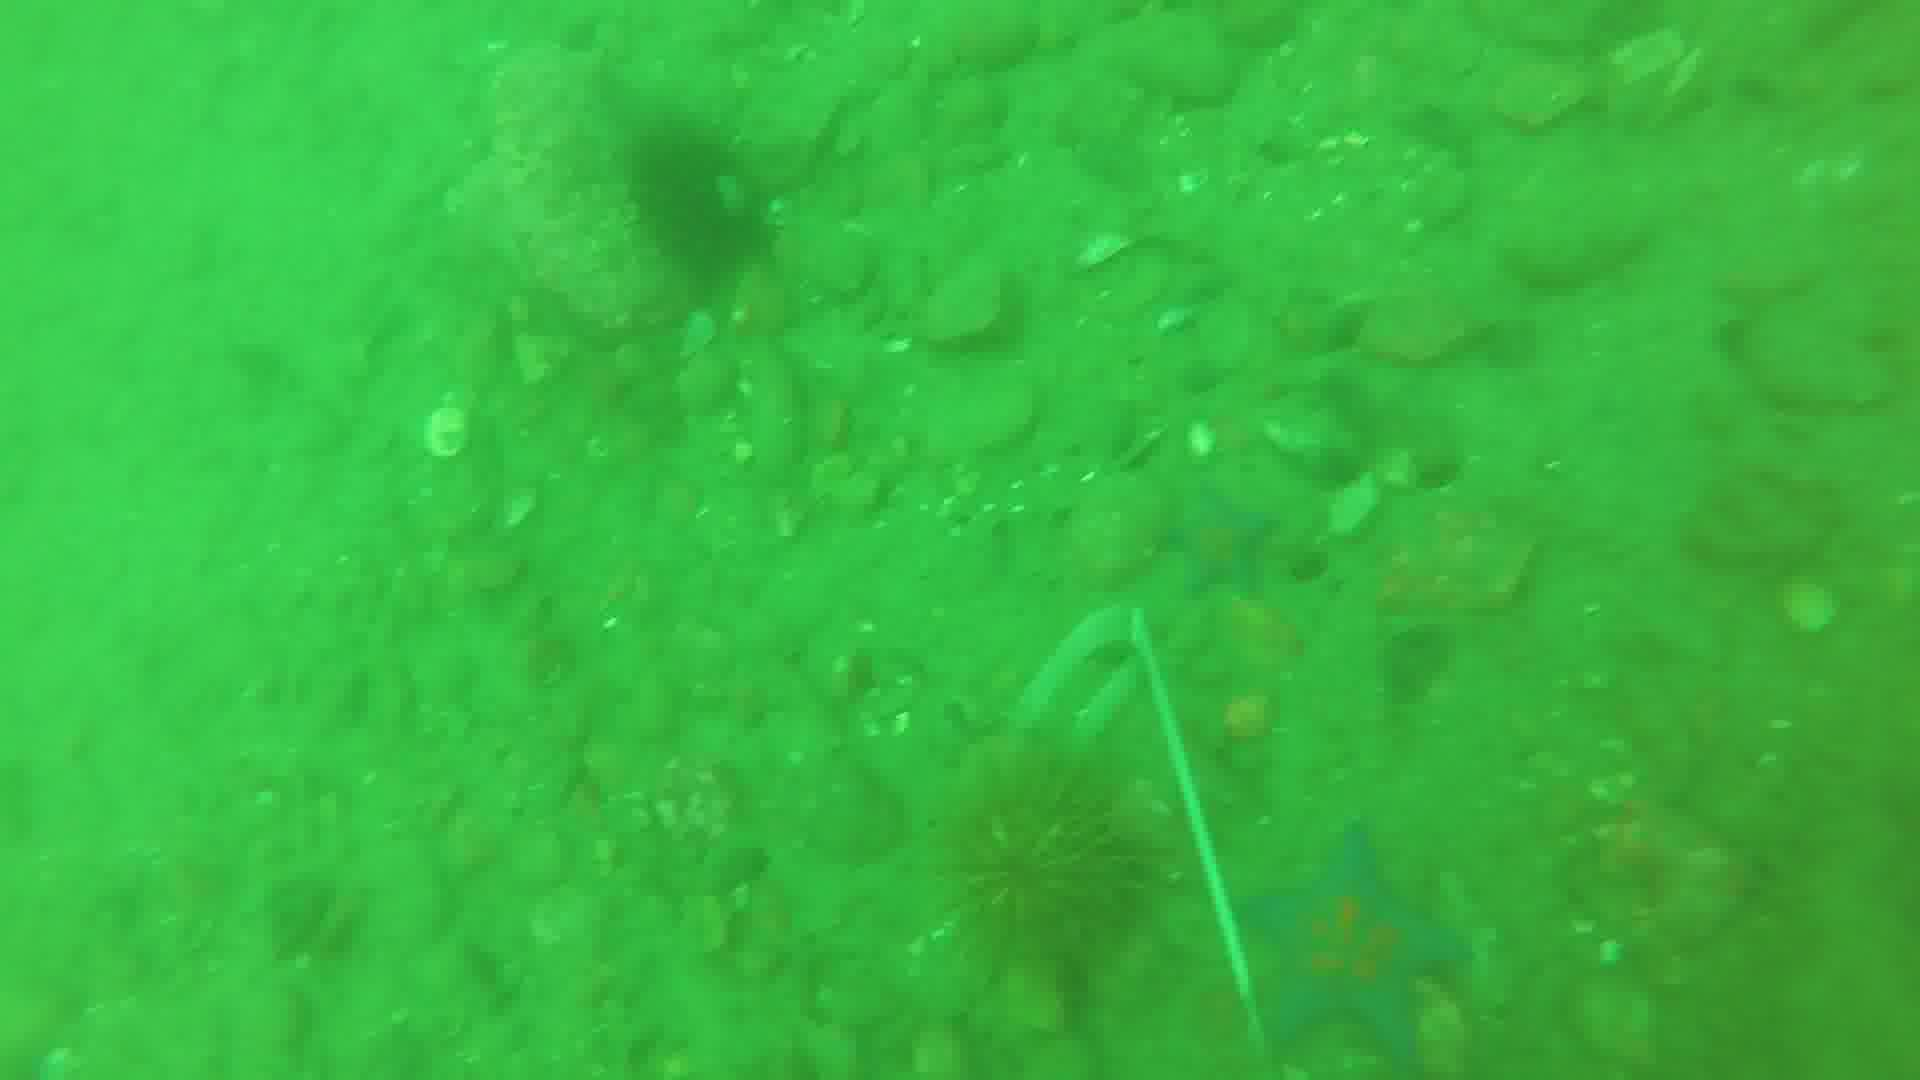echinus: (953, 750, 1153, 990), (629, 109, 771, 272)
scallop: (1611, 32, 1688, 90), (1778, 579, 1845, 644), (422, 407, 469, 458), (1083, 233, 1133, 270), (1189, 421, 1217, 458)
starfish: (1242, 831, 1473, 1080), (1154, 489, 1269, 615)
